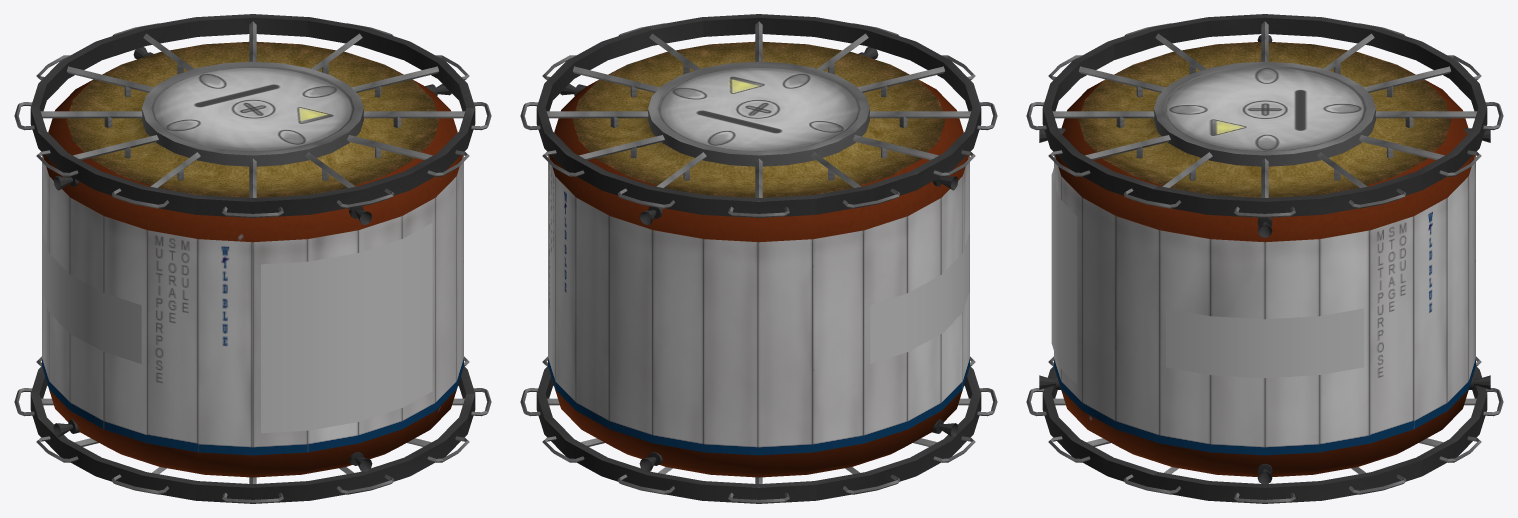
Rendered from MSM.FBX.
The picture shows the model from 3 angles, left to right: view 1: azimuth 30°, elevation 25°; view 2: azimuth 150°, elevation 25°; view 3: azimuth 270°, elevation 25°; orthographic projection.
Parts seen in each view (by area): view 1: MainBody, EndCap001, logoPanel001, StructuralRing001, StructuralRing002, EndCap002, logoPanel002, logoPanel003, Brace003, Brace009, Brace010, Brace002 (+2 smaller); view 2: MainBody, EndCap001, StructuralRing001, StructuralRing002, EndCap002, logoPanel002, logoPanel003, Brace005, Brace011, Brace010, Brace006, Brace004 (+1 smaller); view 3: MainBody, EndCap001, StructuralRing001, StructuralRing002, logoPanel004, EndCap002, logoPanel001, logoPanel005, Brace001, Brace007, Brace006, Brace002 (+2 smaller).
Part boxes in pixels (x1,y1,x2,y2): MainBody: (42,155,463,455); EndCap001: (43,41,462,241); logoPanel001: (261,222,432,433); StructuralRing001: (30,14,475,217); StructuralRing002: (30,366,475,503); EndCap002: (45,378,460,477); logoPanel002: (42,234,141,363); logoPanel003: (58,265,85,342); Brace003: (40,111,142,118); Brace009: (363,111,465,118); Brace010: (351,66,438,92); Brace002: (67,66,154,92); MainBody: (548,155,969,455); EndCap001: (549,41,968,241); StructuralRing001: (536,14,981,217); StructuralRing002: (536,366,981,503); EndCap002: (551,378,966,477); logoPanel002: (870,234,969,363); logoPanel003: (926,265,953,342); Brace005: (869,111,971,118); Brace011: (546,111,648,118); Brace010: (573,66,660,92); Brace006: (857,66,944,92); Brace004: (853,135,938,160); MainBody: (1054,155,1475,455); EndCap001: (1055,41,1474,241); StructuralRing001: (1042,14,1487,217); StructuralRing002: (1042,366,1487,503); logoPanel004: (1166,308,1363,376); EndCap002: (1060,386,1469,476); logoPanel001: (1051,168,1077,384); logoPanel005: (1237,318,1292,377); Brace001: (1375,111,1477,118); Brace007: (1052,111,1154,118); Brace006: (1079,66,1166,92); Brace002: (1363,66,1450,92).
Size of what is drawn, in the model's own units: 2.68 by 2.68 by 1.88.
